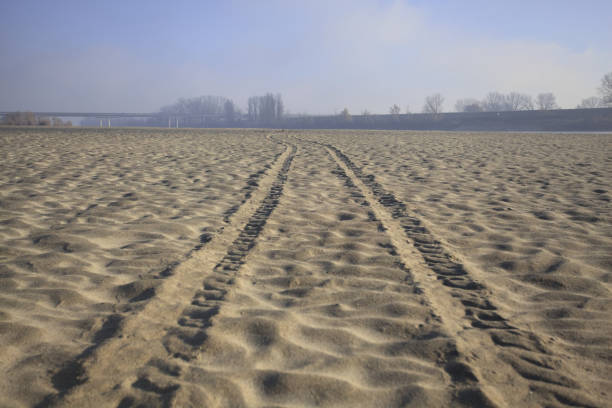vehicle_track: (322, 144, 595, 406), (38, 145, 295, 406)
